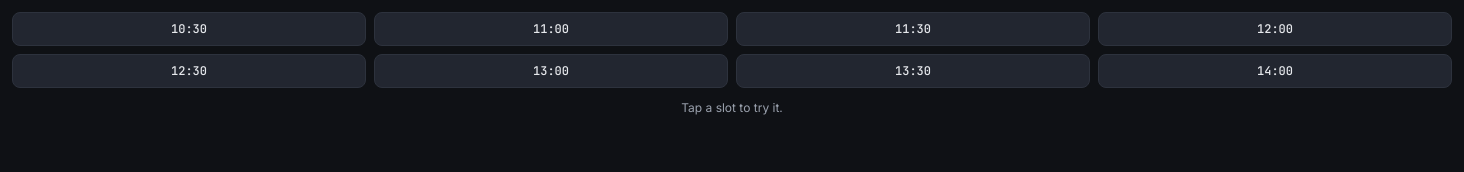
Test: SlotTeaser component › handles the selection flow (select, extend, restart, clear) and updates the status text
The width and height of the screenshot is (1464, 172).
Click the button "11:00" at (551, 29), box 374,12 -> 728,46
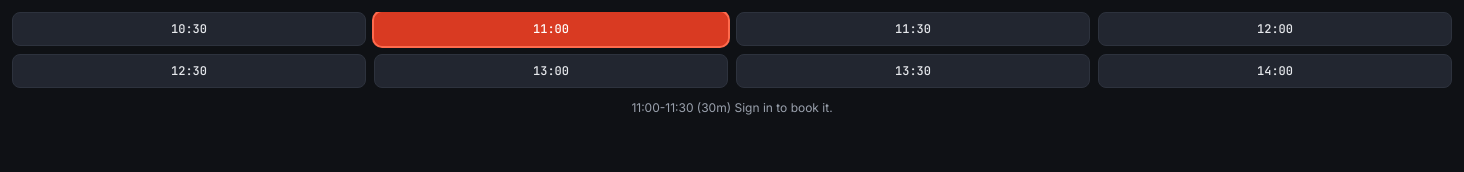
Now the message reads "11:00-11:30 (30m) Sign in to book it.", box 631,100 -> 833,115
# Later click extends range (index 3: 12:00)
Click the button "12:00" at (1275, 29), box 1098,12 -> 1452,46
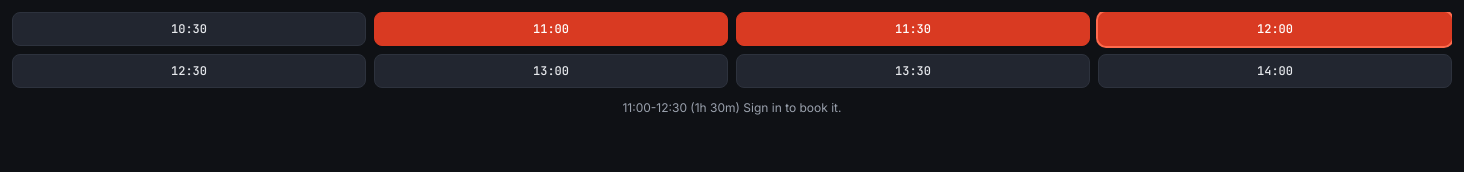
Now the message reads "11:00-12:30 (1h 30m) Sign in to book it.", box 622,100 -> 842,115
# Earlier click restarts selection (index 0: 10:30)
Click the button "10:30" at (189, 29), box 12,12 -> 366,46
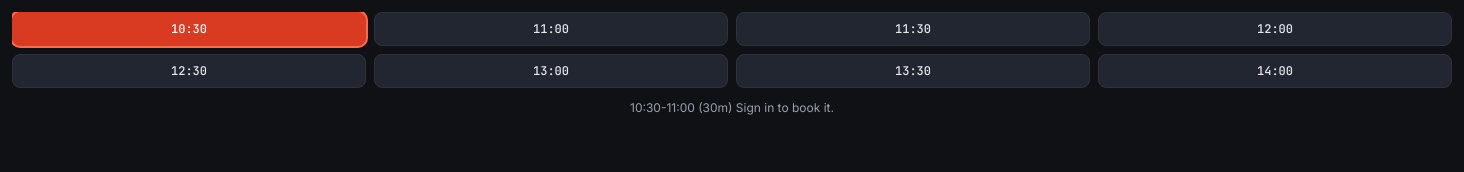
Now the message reads "10:30-11:00 (30m) Sign in to book it.", box 630,100 -> 834,115
# Clicking the only selected cell again clears it
Click the button "10:30" at (189, 29), box 12,12 -> 366,46
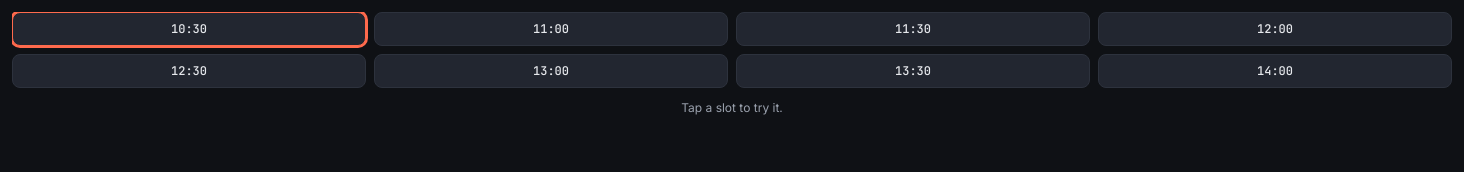
Now the message reads "Tap a slot to try it.", box 681,100 -> 783,115
